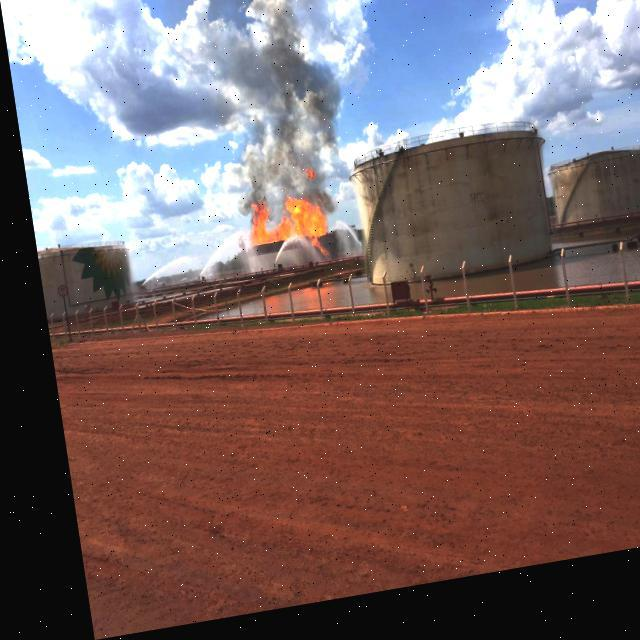Fire: (238, 198, 322, 273)
